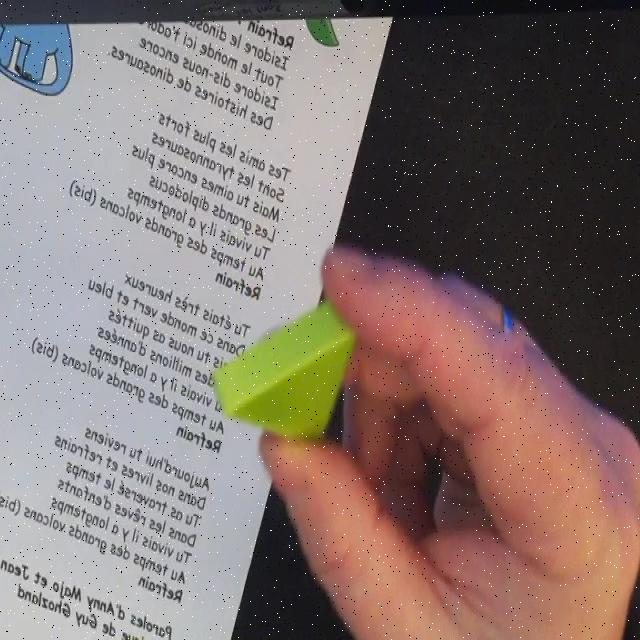triangle: (216, 300, 362, 448)
